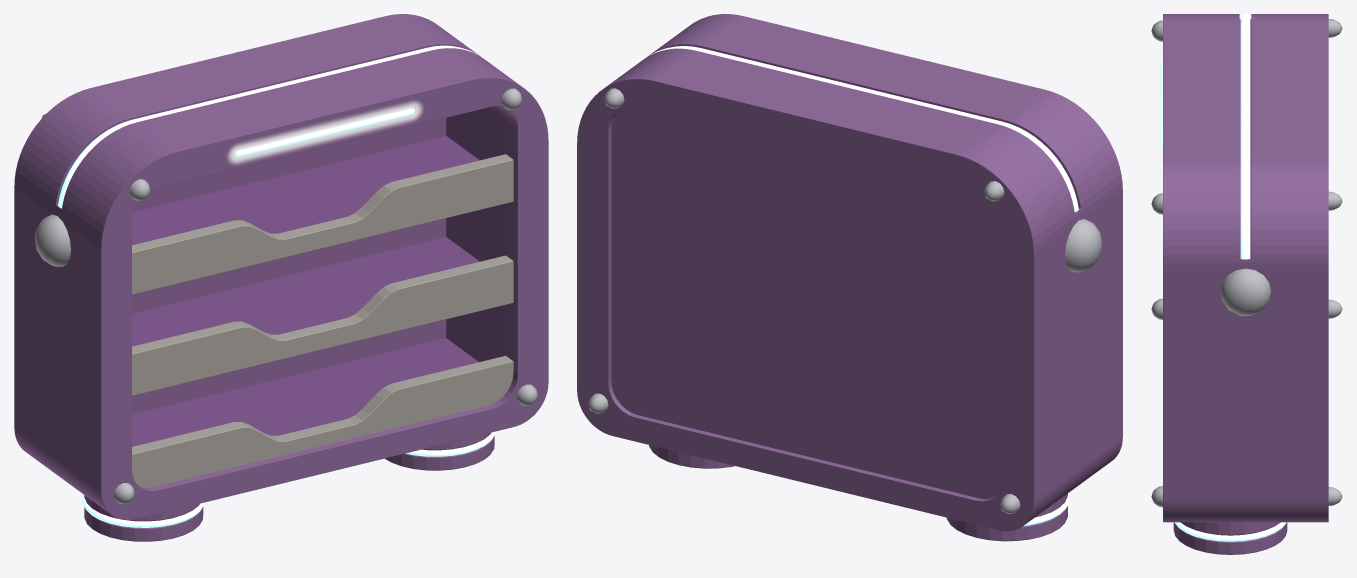
The model's file is library_bookshelf.glb.
The picture shows the model from 3 angles, left to right: view 1: azimuth 30°, elevation 25°; view 2: azimuth 150°, elevation 25°; view 3: azimuth 270°, elevation 25°; orthographic projection. The views are drawn at different scales.
Visible parts, largest first — view 1: Body, Neon, Halo; view 2: Body, Neon, Halo; view 3: Body, Neon, Halo.
Part boxes in pixels (x1,y1,x2,y2): Body: (14,14,548,541); Neon: (58,45,496,527); Halo: (75,100,503,545); Body: (577,14,1122,541); Neon: (649,46,1078,525); Halo: (639,443,1076,544); Body: (1151,14,1342,554); Neon: (1160,14,1286,541); Halo: (1165,522,1295,558).
Size of the model in its own units: 1.4 by 1.08 by 0.5011.
3 materials, 1 textured.
